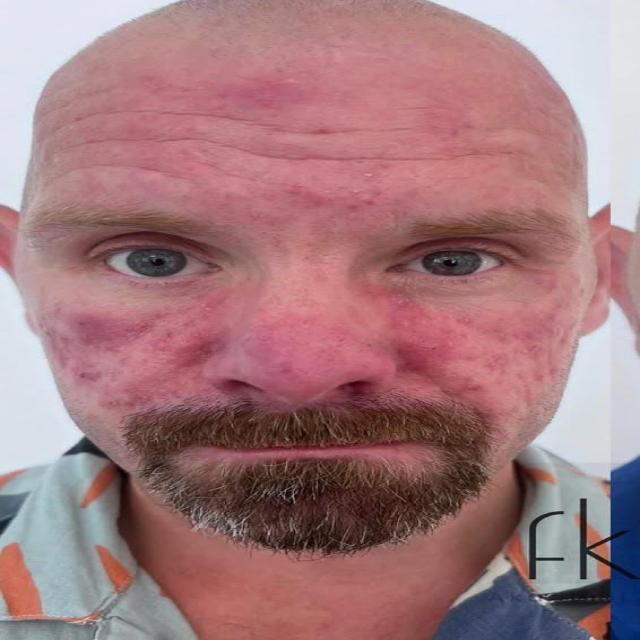Rosacea: (35, 314, 576, 394)
